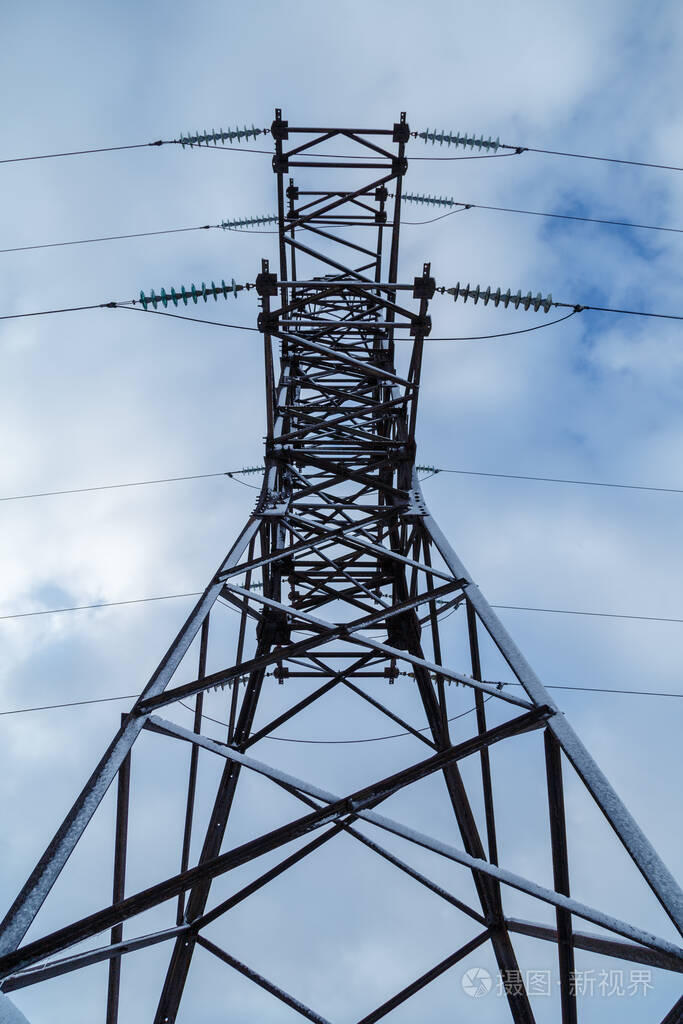insulator: (136, 278, 240, 312), (451, 282, 552, 317), (418, 126, 503, 156), (177, 123, 261, 150)
